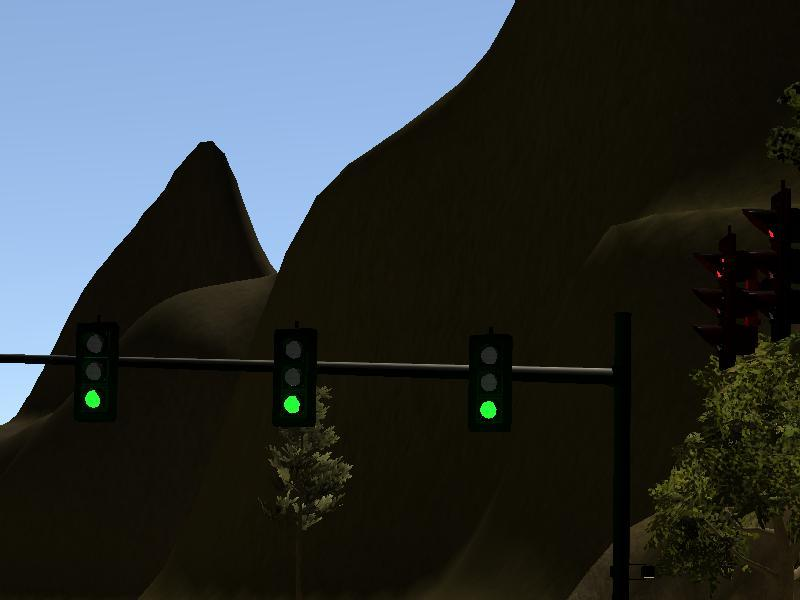Green: (271, 328, 316, 433), (71, 328, 114, 421), (474, 330, 509, 430)
